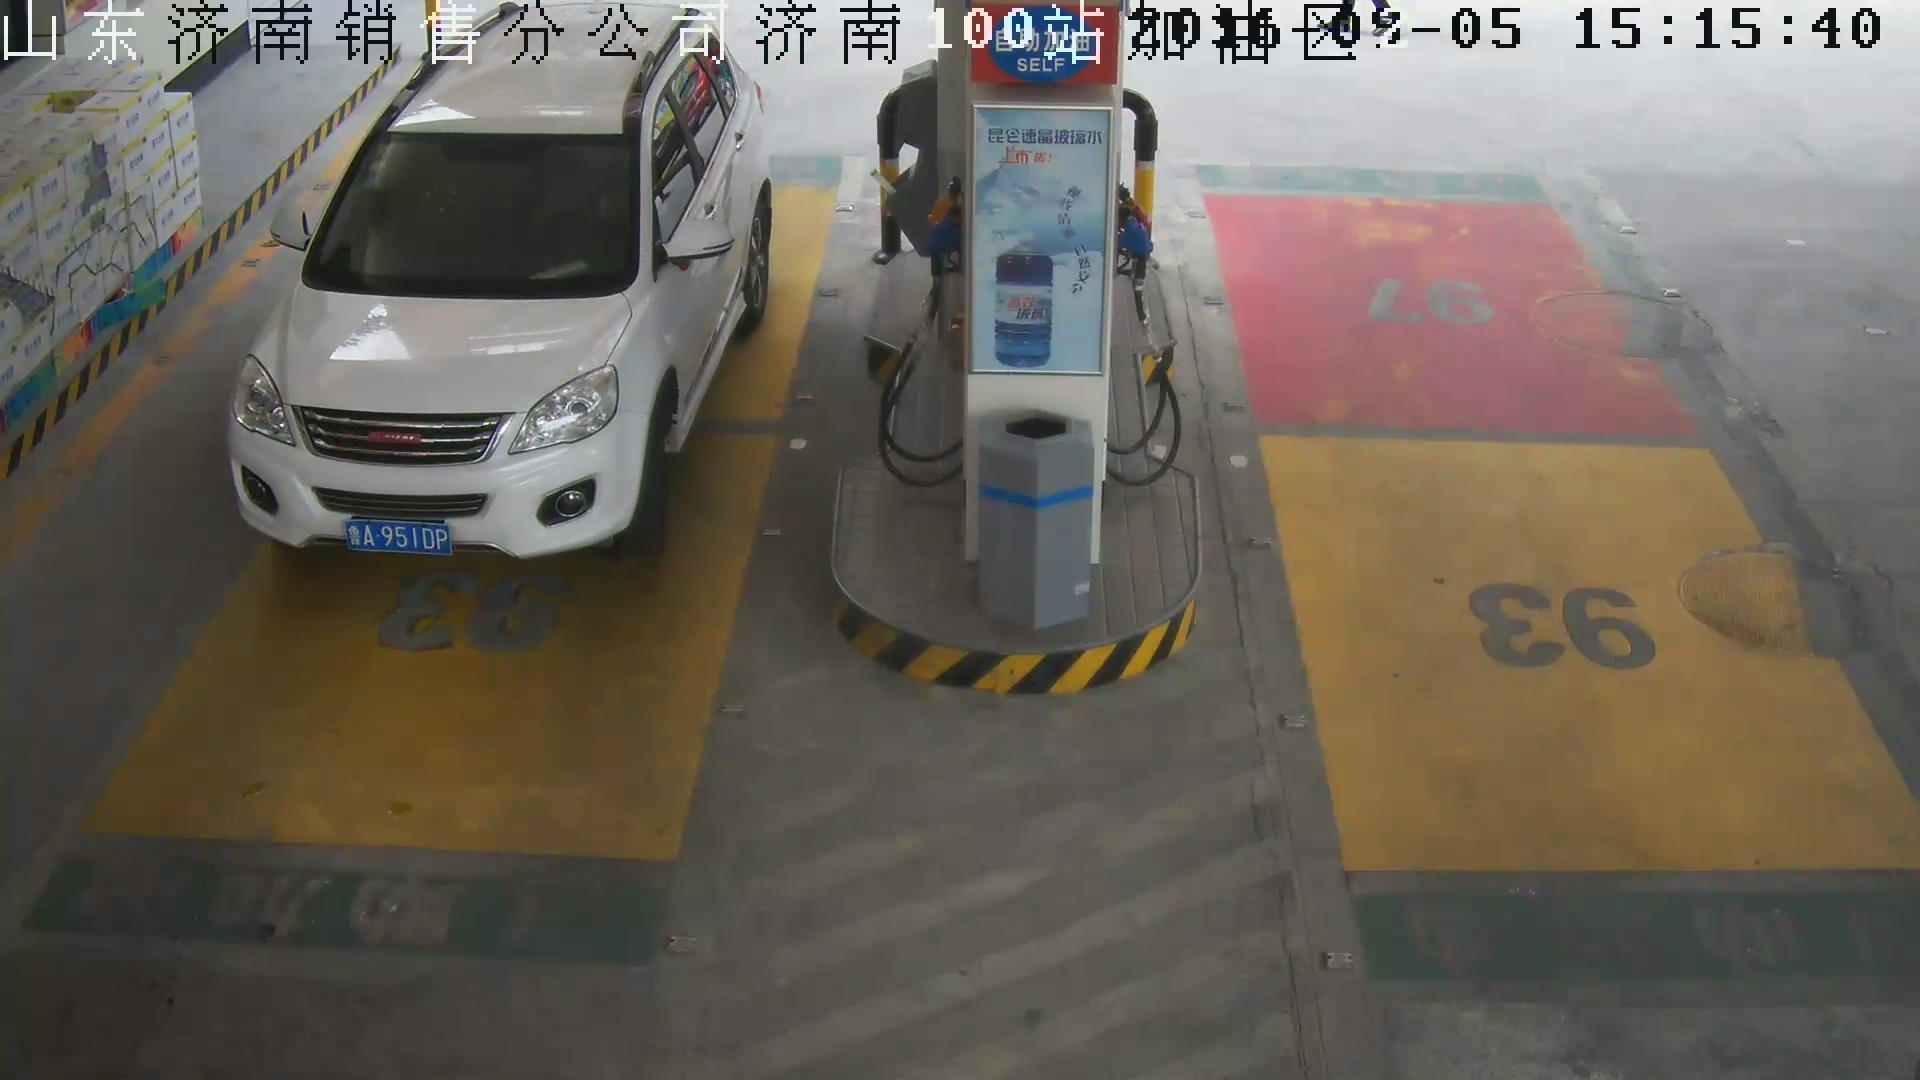blue: (345, 521, 456, 558)
